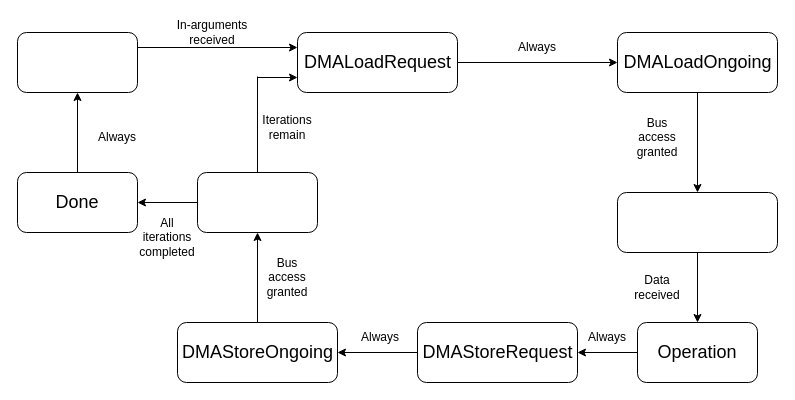
Image size: 795x400. Some labels were removed from this diagram. Here are the shapes that lost their labels. From the top down, the centre of each, then its label:
the point at 77,62: Idle
the point at 257,202: CheckDone
the point at 697,222: DMALoadReceive
